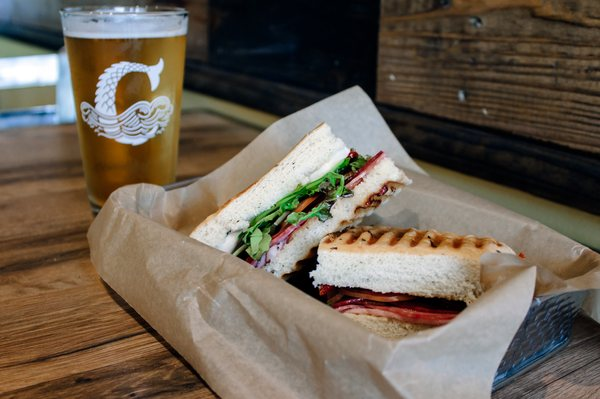soup: (189, 120, 413, 278)
